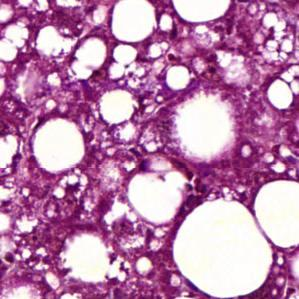steatosis: (179, 195, 273, 298), (31, 114, 84, 173)
